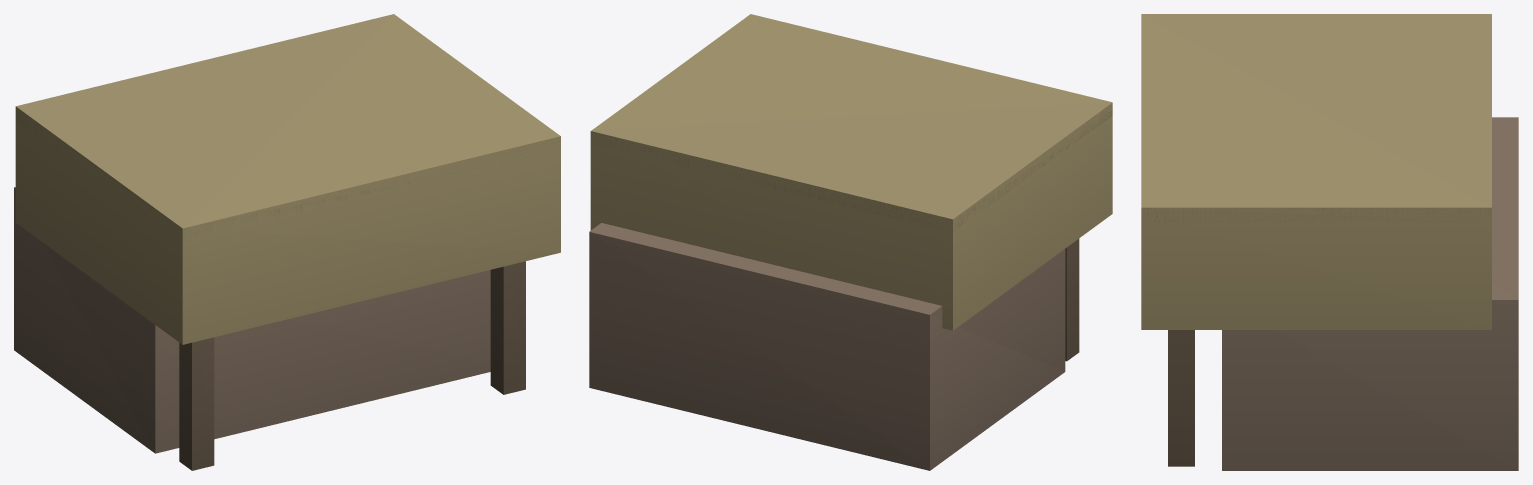
File: stable.glb
3 renders of one model, left to right at view 1: azimuth 30°, elevation 25°; view 2: azimuth 150°, elevation 25°; view 3: azimuth 270°, elevation 25°, orthographic. The views are drawn at different scales.
Parts seen in each view (by area): view 1: stable; view 2: stable; view 3: stable.
Boxes of the visible parts, x1,y1,x2,y2 form: stable: (14, 14, 560, 470); stable: (589, 14, 1112, 470); stable: (1141, 14, 1518, 470).
Size of the model in its own units: 1.7 by 1.1 by 1.4.
